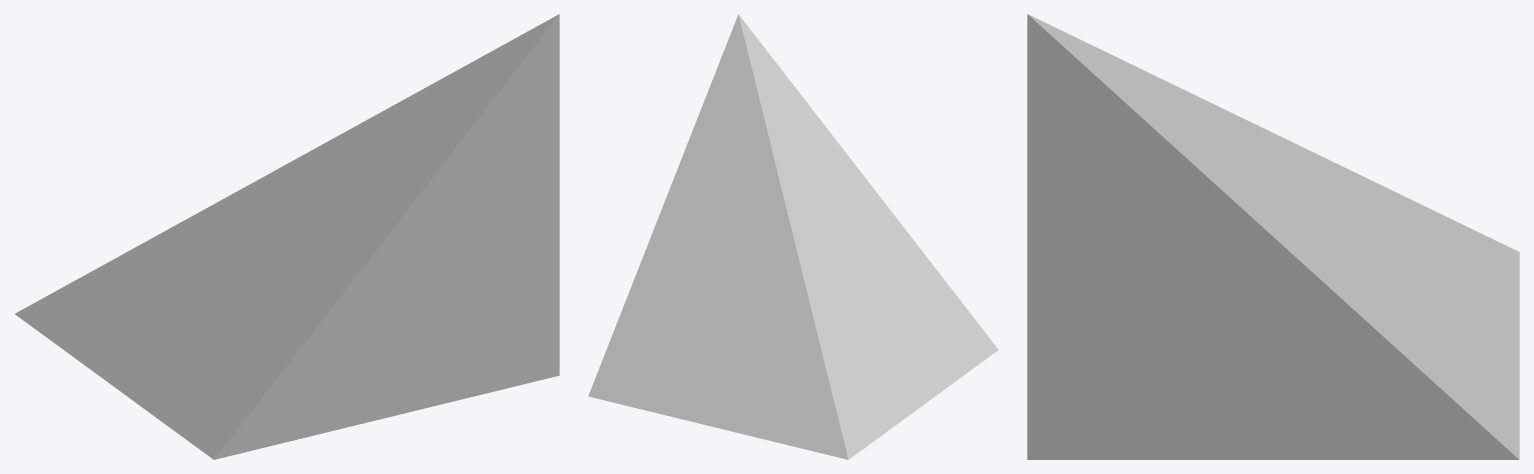
File: KickerAngle.fbx
3 renders of one model, left to right at view 1: azimuth 30°, elevation 25°; view 2: azimuth 150°, elevation 25°; view 3: azimuth 270°, elevation 25°, orthographic. The views are drawn at different scales.
Parts seen in each view (by area): view 1: KickerAngle; view 2: KickerAngle; view 3: KickerAngle.
Part boxes in pixels (box(x1,y1,x2,y2)): KickerAngle: box(15, 14, 559, 459); KickerAngle: box(588, 14, 998, 459); KickerAngle: box(1027, 14, 1519, 459).
Bounding box in the file's own units: 1 × 1 × 1.
